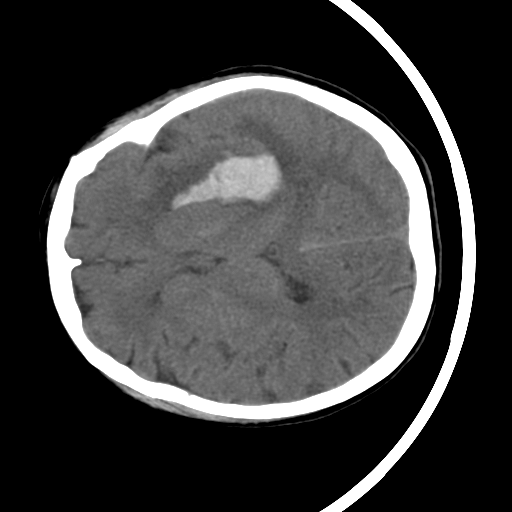a: (132, 107, 316, 236)
